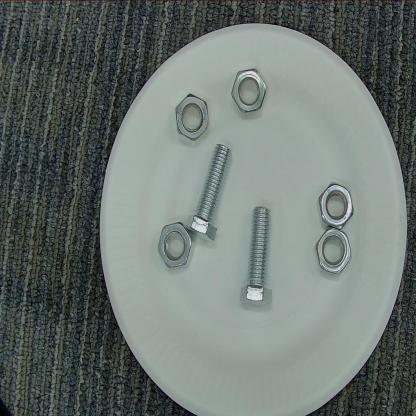FOD: (186, 140, 240, 238), (242, 204, 276, 313), (230, 61, 271, 116), (315, 228, 355, 279), (156, 219, 194, 269), (175, 93, 212, 144), (316, 182, 356, 229)
